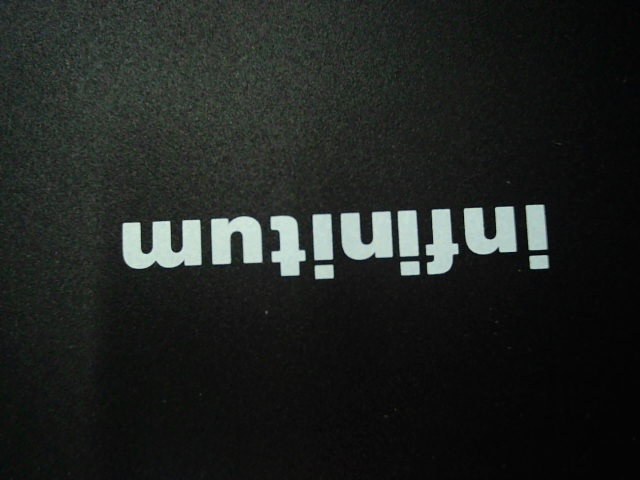BK_infinitum: (96, 176, 561, 284)
